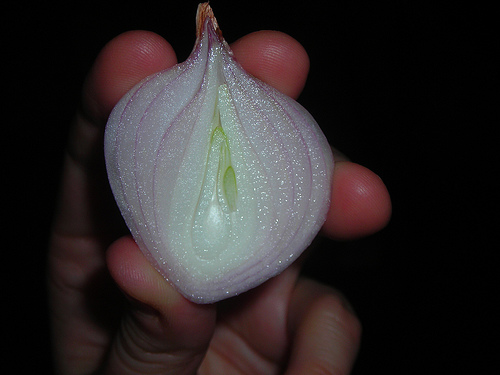onion: (101, 1, 335, 307)
